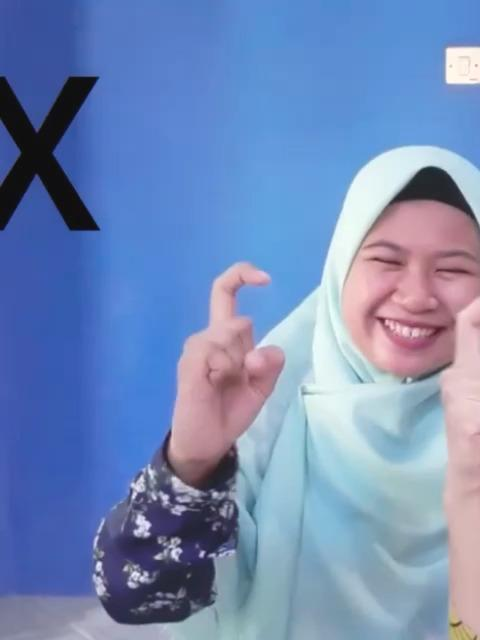X: (166, 254, 287, 450)
